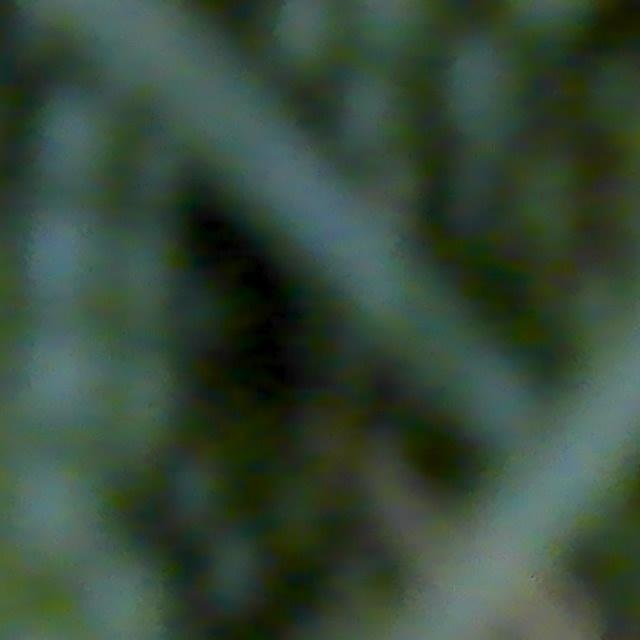SeaGrape: (80, 320, 180, 462), (0, 454, 122, 561), (436, 33, 533, 138), (16, 323, 99, 431), (32, 89, 124, 186), (21, 207, 111, 301), (101, 220, 190, 312), (80, 566, 176, 640), (336, 70, 416, 153), (200, 534, 270, 613), (269, 0, 347, 69)
